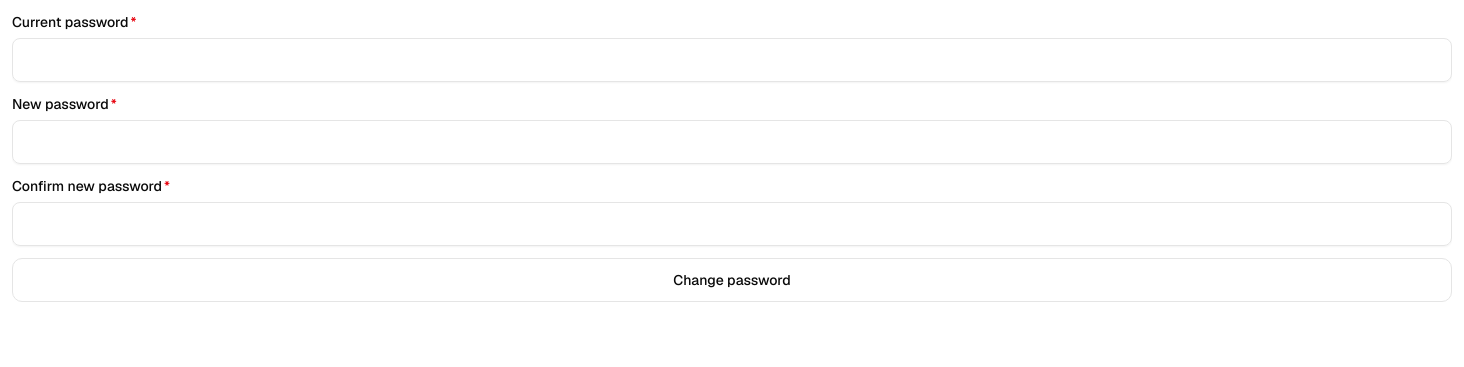
Test case: ChangePasswordForm › shows server error inline
Type "wrong" into the password field labelled "Current password*". click: point(732, 60)
box: [12,38,1452,82]
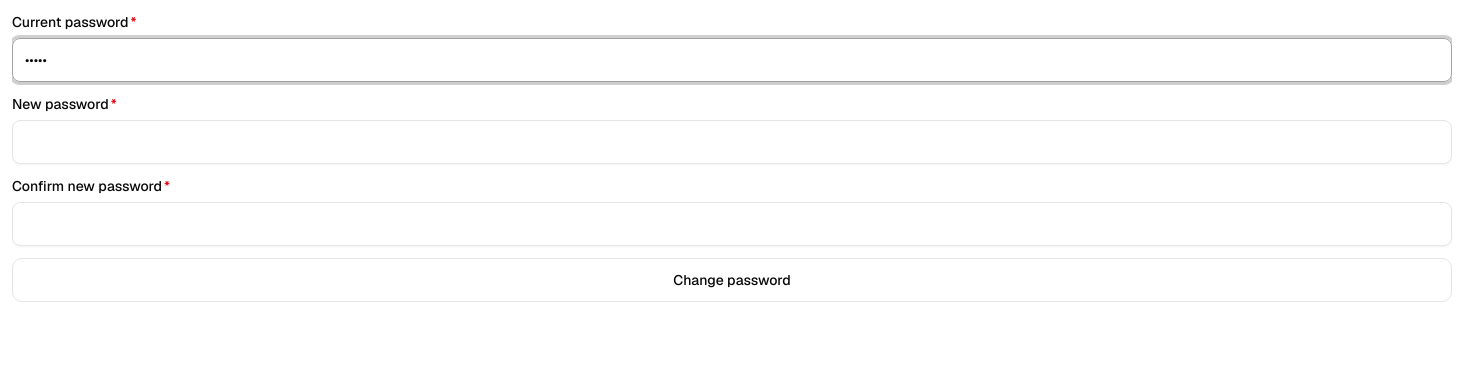
Type "newpass1" into the password field labelled "New password*". click: point(732, 142)
box: [12,120,1452,164]
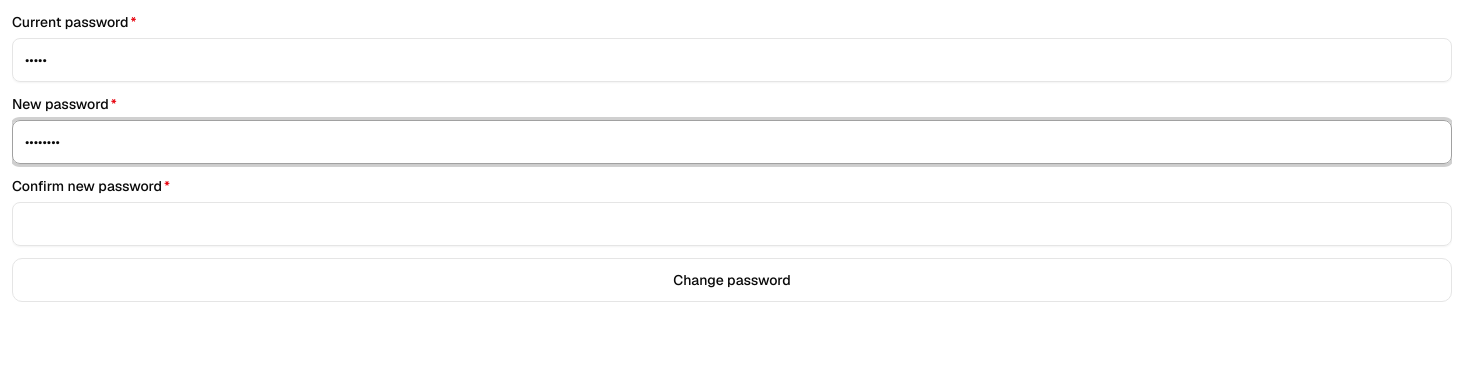
Type "newpass1" into the password field labelled "Confirm new password*". click: point(732, 224)
box: [12,202,1452,246]
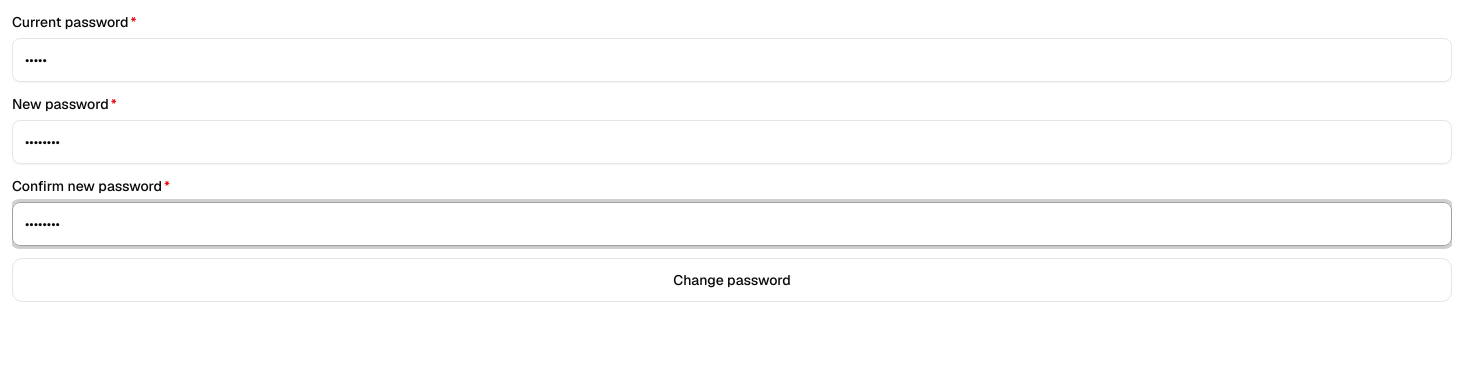
Click the button "Change password". click: point(732, 280)
box: [12,258,1452,302]
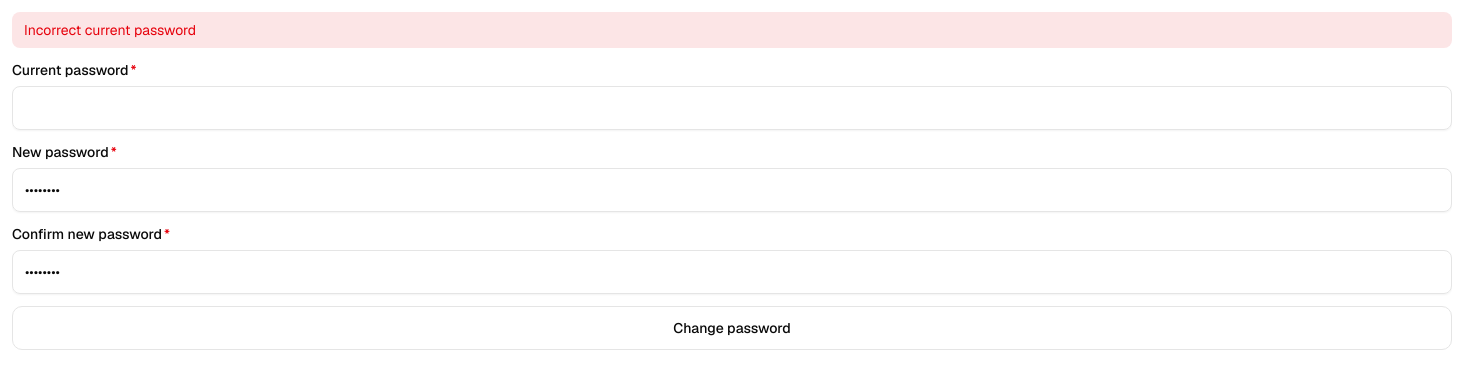
Check: the message reads "Incorrect current password", box [24,21,196,39]
